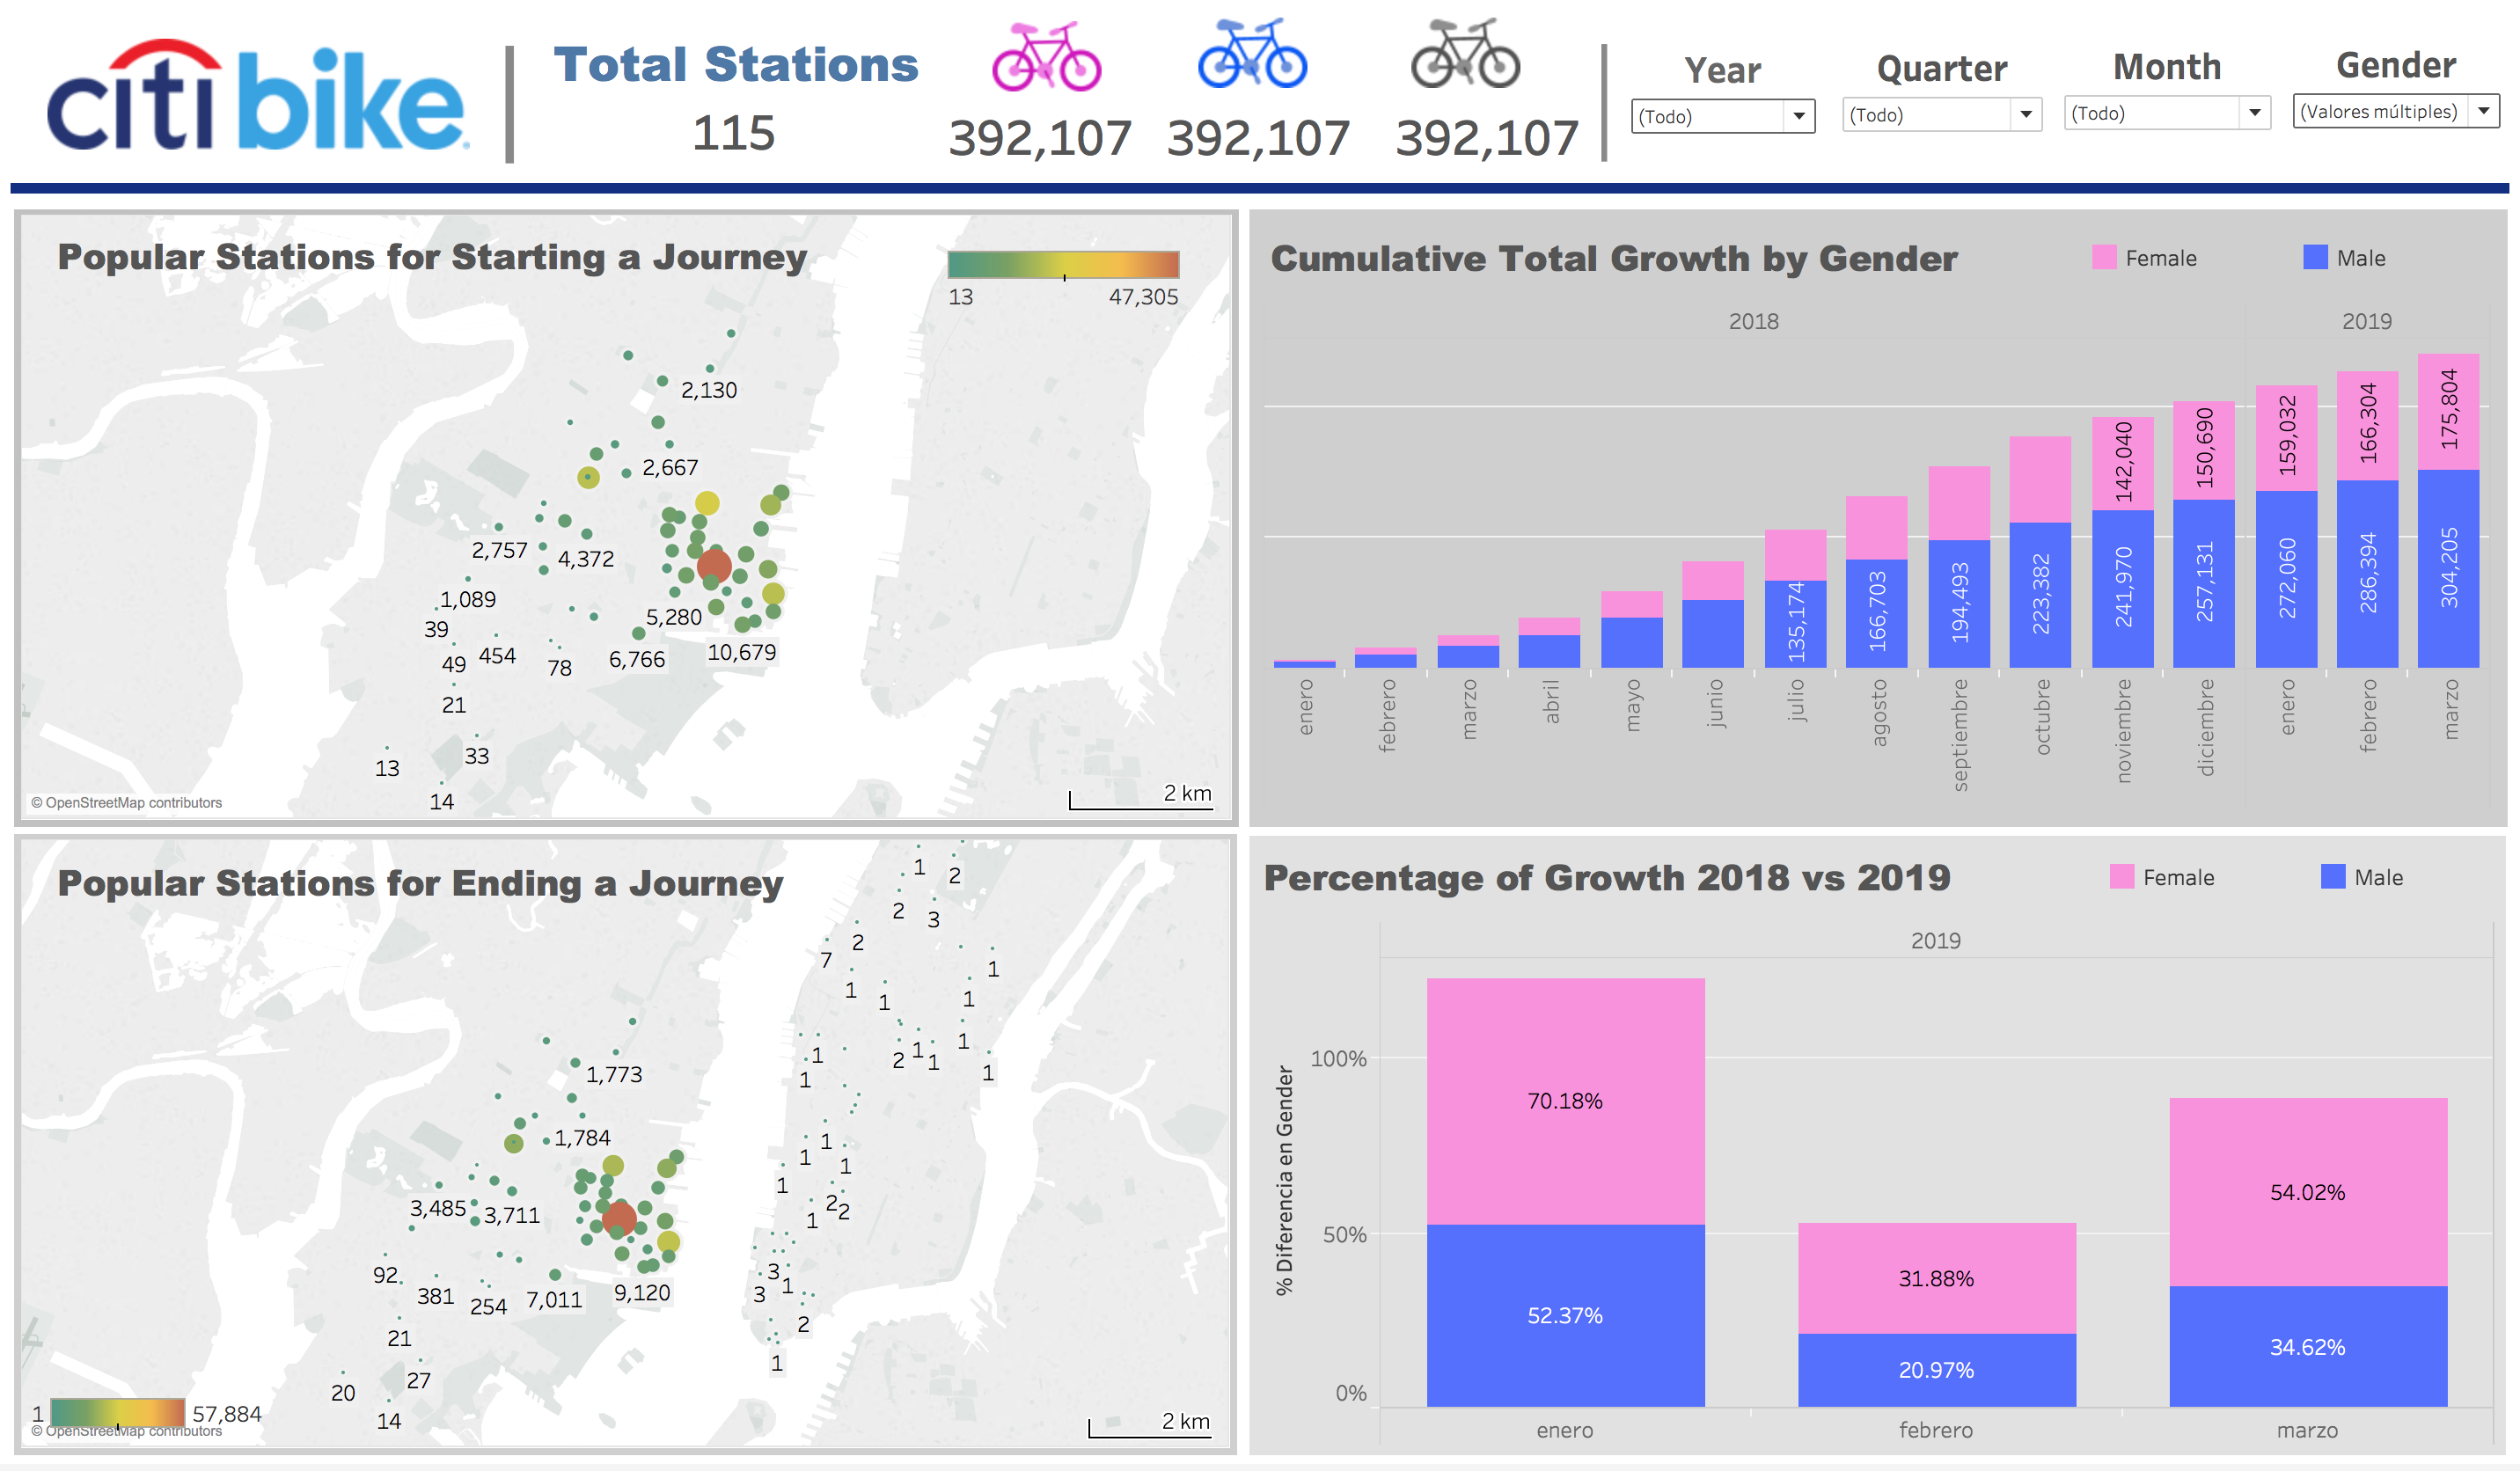

The dashboard page shown, as its layout file describes it:
{"tool":"tableau","page":{"name":"Dashboard 6-10","canvas":[1000,1000],"units":"permille","ordinal":2},"visuals":[{"type":"text","box":[193.1,6,20.8,117.5]},{"type":"text","box":[609.7,8.4,21.5,115.1]},{"type":"image","param":"/Users/jahirmunguia/Dropbox/TECMC201811DATA/HW18/Images/bikeblue-0.png","box":[475,14.4,55.6,48]},{"type":"image","param":"/Users/jahirmunguia/Dropbox/TECMC201811DATA/HW18/Images/bikegrey-0.png","box":[559,14.4,55.6,48]},{"type":"text","box":[218.8,16.8,161.1,57.6]},{"type":"image","param":"/Users/jahirmunguia/Dropbox/TECMC201811DATA/HW18/Images/bikepink-0.png","box":[393.8,16.8,55.6,48]},{"type":"image","param":"/Users/jahirmunguia/Dropbox/TECMC201811DATA/HW18/Images/CitiBike_Logo_p.svg","box":[20.8,28.8,175.7,75.5]},{"type":"filter","title":"Male vs Female","param":"[federated.1l4bbzk0cbj91a12lvhcv0h2i7lq].[none:Calculation_6567655684883111936:n","box":[904.9,28.8,86.1,119.9]},{"type":"filter","title":"Stations","param":"[federated.1l4bbzk0cbj91a12lvhcv0h2i7lq].[yr:starttime:ok]","box":[631.2,30,77.1,77.9]},{"type":"filter","title":"Stations","param":"[federated.1l4bbzk0cbj91a12lvhcv0h2i7lq].[qr:starttime:ok]","box":[712.5,30,97.2,89.9]},{"type":"filter","title":"Stations","param":"[federated.1l4bbzk0cbj91a12lvhcv0h2i7lq].[mn:starttime:ok]","box":[814.6,30,86.1,88.7]},{"type":"worksheet","title":"Stations","mark":"Automatic","box":[270.1,69.5,66.7,49.2]},{"type":"worksheet","title":"Male","mark":"Automatic","box":[455.6,73.1,86.8,48]},{"type":"worksheet","title":"Gender Unknown","mark":"Automatic","box":[545.8,73.1,86.8,57.6]},{"type":"worksheet","title":"Female","mark":"Automatic","box":[380.6,74.3,88.9,68.4]},{"type":"blank","box":[6.2,127.1,986.1,7.2]},{"type":"blank","box":[7.6,145.1,483.3,420.9]},{"type":"blank","box":[495.1,145.1,496.5,420.9]},{"type":"worksheet","title":"TOP Start Trip","mark":"Automatic","rows":["start station latitude"],"cols":["start station longitude"],"box":[10.4,148.7,477.8,412.5]},{"type":"worksheet","title":"Male vs Female","mark":"Bar","rows":["gender"],"cols":["starttime","starttime"],"box":[500.7,155.9,484.7,399.3]},{"type":"text","box":[22.9,158.3,330.6,36]},{"type":"legend","title":"TOP Start Trip","param":"[federated.1l4bbzk0cbj91a12lvhcv0h2i7lq].[sum:Number of Records:qk]","box":[373.6,169.1,97.2,91.1]},{"type":"blank","box":[7.6,570.7,482.6,423.3]},{"type":"blank","box":[495.1,571.9,495.8,422.1]},{"type":"worksheet","title":"TOP End Trip","mark":"Automatic","rows":["end station latitude"],"cols":["end station longitude"],"box":[10.4,574.3,477.1,414.9]},{"type":"worksheet","title":"Male vs Female (2)","mark":"Bar","cols":["starttime","starttime"],"box":[497.9,577.9,488.9,410.1]},{"type":"text","box":[22.9,583.9,313.2,39.6]},{"type":"legend","title":"TOP End Trip","param":"[federated.1l4bbzk0cbj91a12lvhcv0h2i7lq].[sum:Number of Records:qk]","box":[11.8,950.8,97.2,36]}]}

Visuals, with their boxes on the dashboard's canvas, which has no fixed pixel size, in thousandths of its width and height (x1, y1, x2, y2). These are canvas units, not pixel positions in the 2520x1471 screenshot, which may show the page scaled, cropped or inside an application window:
text: crop(193, 6, 214, 124)
text: crop(610, 8, 631, 124)
image: crop(475, 14, 531, 62)
image: crop(559, 14, 615, 62)
text: crop(219, 17, 380, 74)
image: crop(394, 17, 449, 65)
image: crop(21, 29, 196, 104)
"Male vs Female" filter: crop(905, 29, 991, 149)
"Stations" filter: crop(631, 30, 708, 108)
"Stations" filter: crop(712, 30, 810, 120)
"Stations" filter: crop(815, 30, 901, 119)
"Stations" worksheet: crop(270, 70, 337, 119)
"Male" worksheet: crop(456, 73, 542, 121)
"Gender Unknown" worksheet: crop(546, 73, 633, 131)
"Female" worksheet: crop(381, 74, 470, 143)
blank: crop(6, 127, 992, 134)
blank: crop(8, 145, 491, 566)
blank: crop(495, 145, 992, 566)
"TOP Start Trip" worksheet: crop(10, 149, 488, 561)
"Male vs Female" worksheet (Bar marks): crop(501, 156, 985, 555)
text: crop(23, 158, 354, 194)
"TOP Start Trip" legend: crop(374, 169, 471, 260)
blank: crop(8, 571, 490, 994)
blank: crop(495, 572, 991, 994)
"TOP End Trip" worksheet: crop(10, 574, 488, 989)
"Male vs Female (2)" worksheet (Bar marks): crop(498, 578, 987, 988)
text: crop(23, 584, 336, 624)
"TOP End Trip" legend: crop(12, 951, 109, 987)
